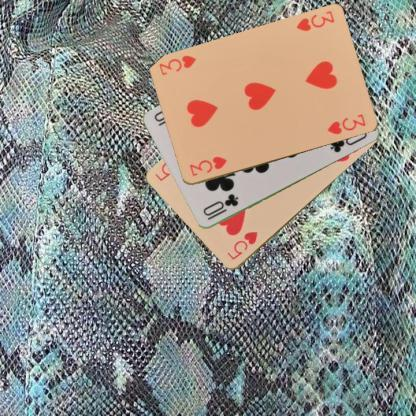10c: (200, 191, 240, 222)
3h: (294, 8, 336, 33), (186, 154, 228, 178)
5h: (225, 229, 259, 262)
